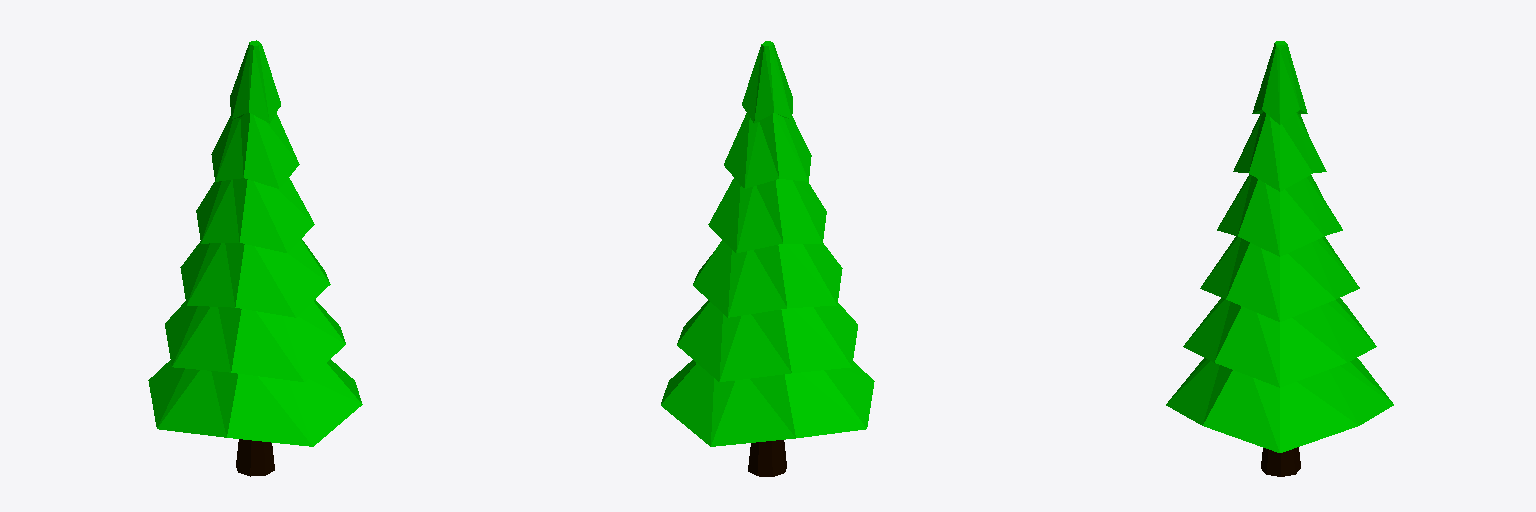
File: tree2.obj
3 views of the same model, side by side, from view 1: azimuth 30°, elevation 25°; view 2: azimuth 150°, elevation 25°; view 3: azimuth 270°, elevation 25° (orthographic).
Visible parts, largest first — view 1: Cylinder_Cylinder.001, Cylinder.001_Cylinder.002; view 2: Cylinder_Cylinder.001, Cylinder.001_Cylinder.002; view 3: Cylinder_Cylinder.001, Cylinder.001_Cylinder.002.
Boxes of the visible parts, x1=… form: Cylinder_Cylinder.001: x1=148, y1=40, x2=362, y2=446; Cylinder.001_Cylinder.002: x1=236, y1=439, x2=274, y2=476; Cylinder_Cylinder.001: x1=661, y1=41, x2=874, y2=446; Cylinder.001_Cylinder.002: x1=748, y1=440, x2=786, y2=476; Cylinder_Cylinder.001: x1=1166, y1=41, x2=1393, y2=452; Cylinder.001_Cylinder.002: x1=1261, y1=447, x2=1300, y2=476.
Size of the model in its own units: 3.68 by 7.54 by 3.68.